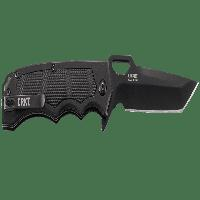knife: (4, 53, 199, 128)
